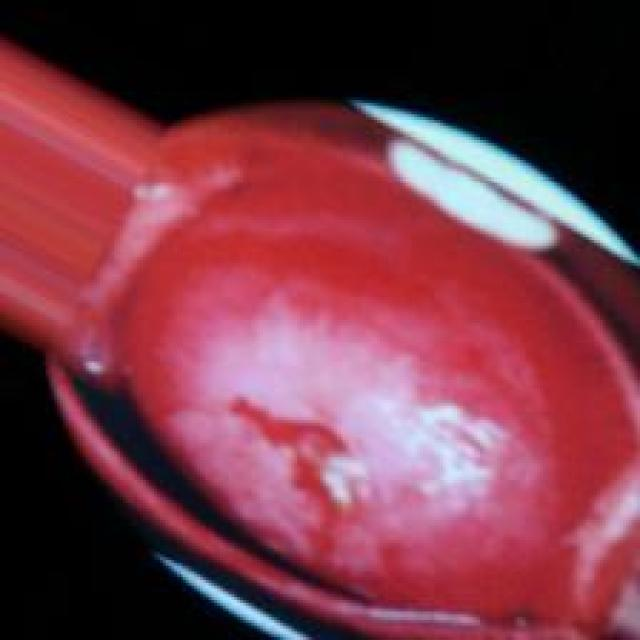type-3: (78, 107, 602, 631)
